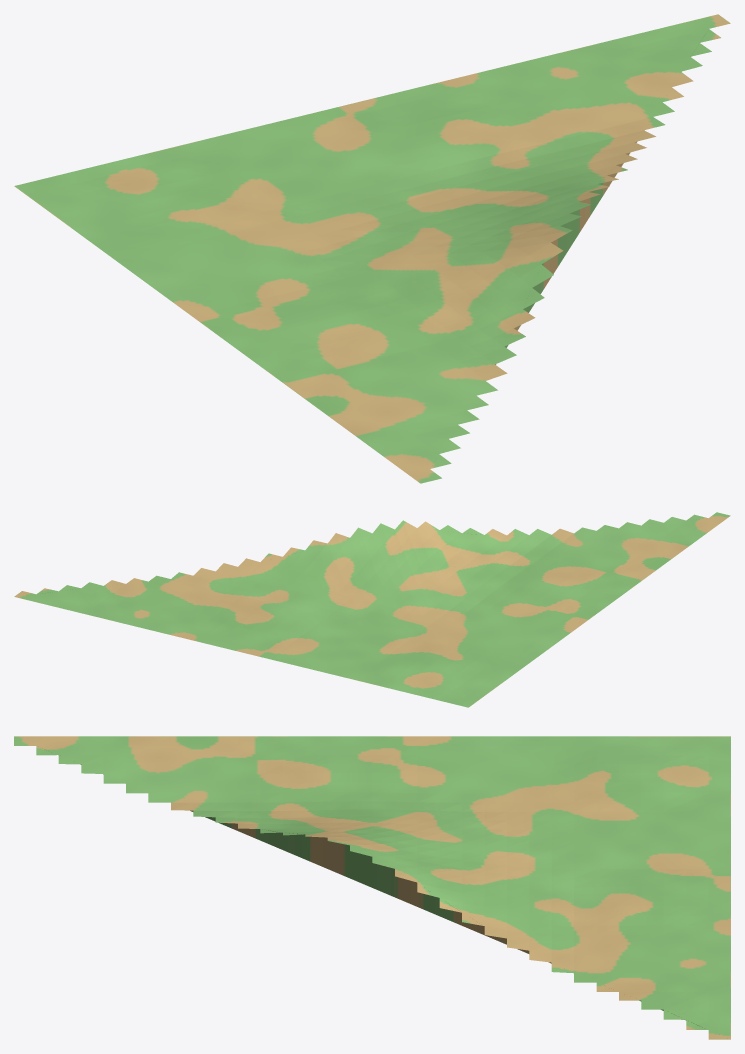
The model's file is Grass_Hills_07_SW.obj.
3 renders of one model, top to bottom at view 1: azimuth 30°, elevation 25°; view 2: azimuth 150°, elevation 25°; view 3: azimuth 270°, elevation 25°, orthographic. The views are drawn at different scales.
Size of the model in its own units: 10 by 0.5777 by 10.
Materials: 1 (1 with a texture image).
